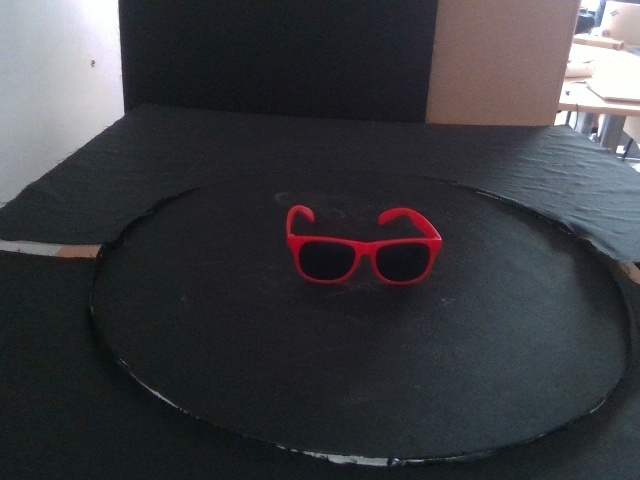glasses: (285, 204, 443, 288)
